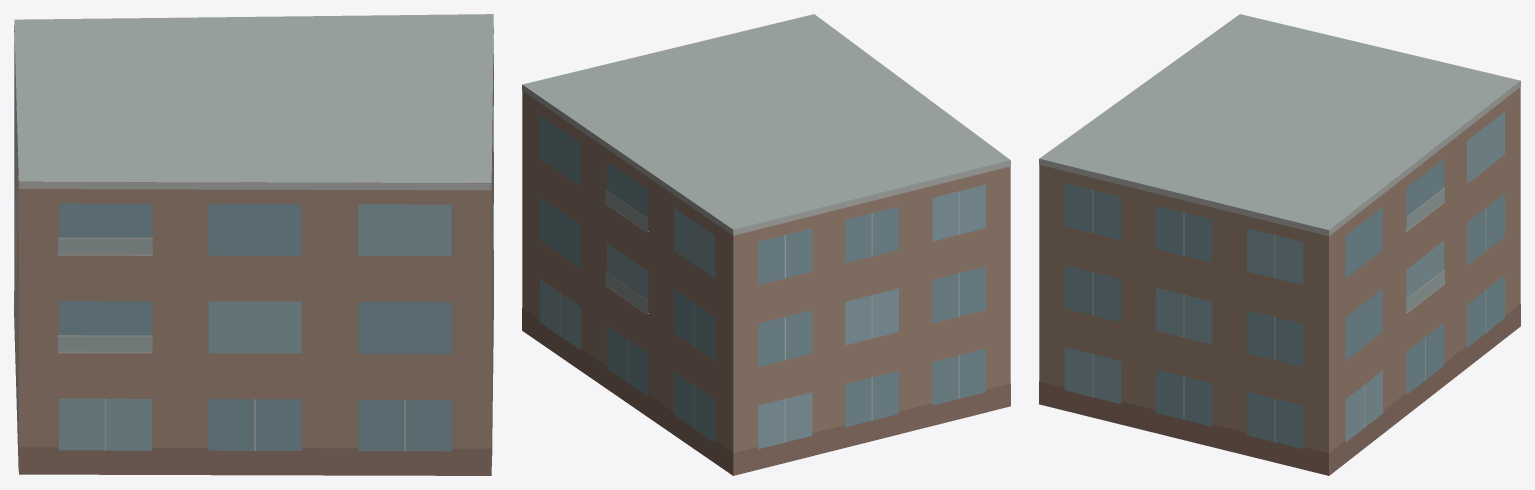
Rendered from survey-upis-32851989.glb.
3 views of the same model, side by side, from view 1: azimuth 30°, elevation 25°; view 2: azimuth 150°, elevation 25°; view 3: azimuth 270°, elevation 25° (orthographic). The views are drawn at different scales.
Visible parts, largest first — view 1: survey-upis-32851989.tmp; view 2: survey-upis-32851989.tmp; view 3: survey-upis-32851989.tmp.
Boxes of the visible parts, <box> form: survey-upis-32851989.tmp: <box>14,14,493,475</box>; survey-upis-32851989.tmp: <box>522,14,1010,475</box>; survey-upis-32851989.tmp: <box>1039,14,1520,475</box>.
Size of the model in its own units: 18.6 by 9.85 by 17.51.
